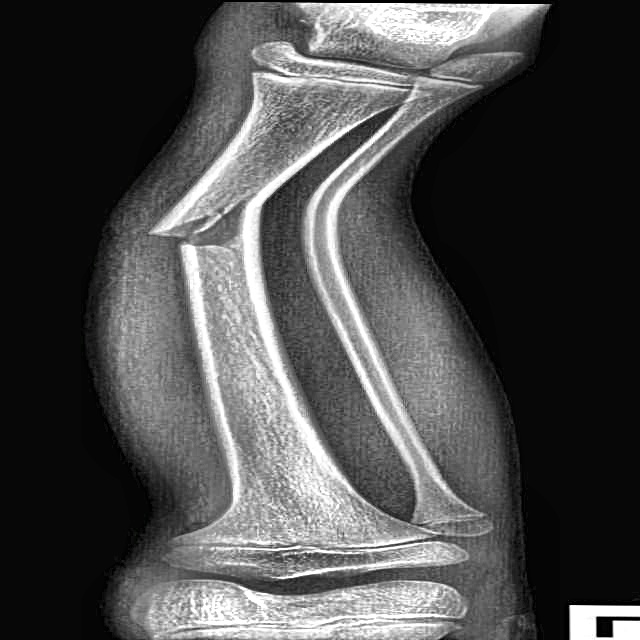Oblique Displaced: (99, 177, 301, 266)
